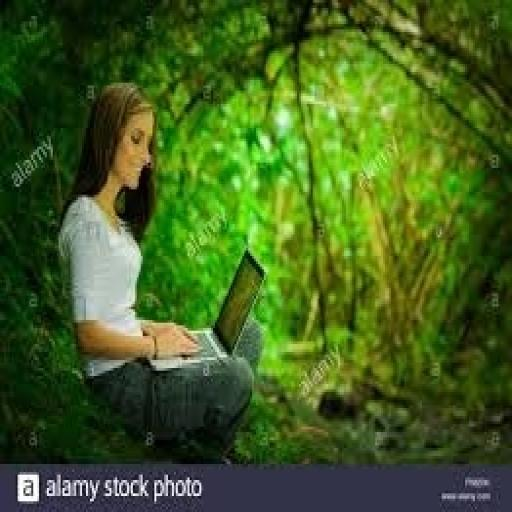using_laptop: (144, 246, 266, 374)
